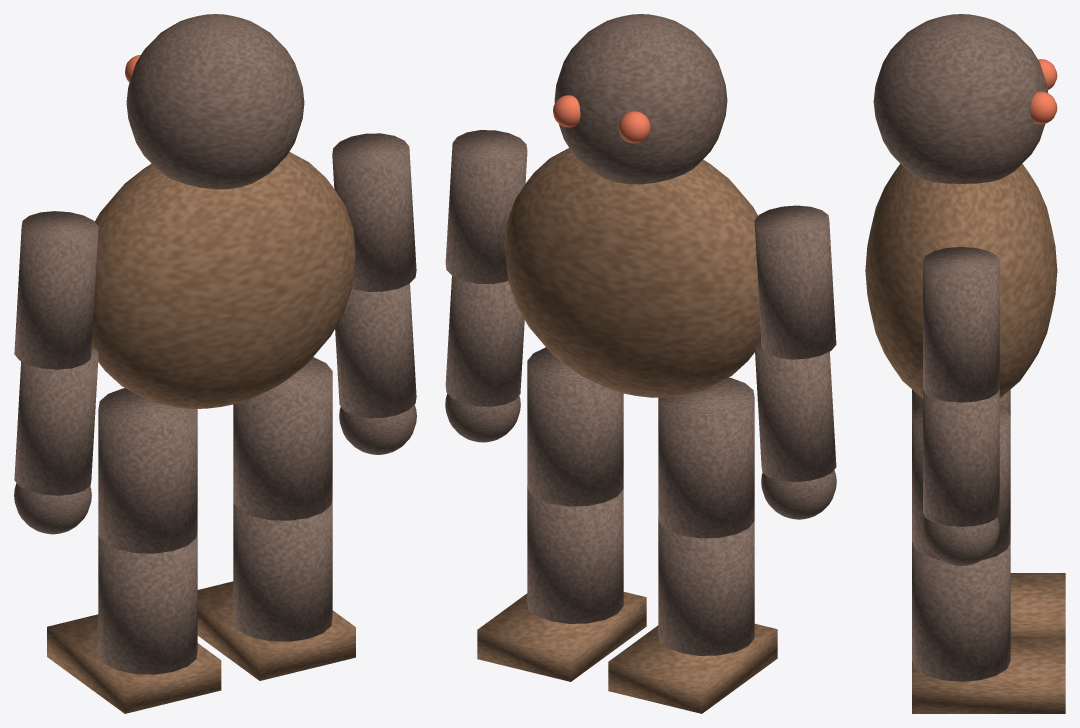
The model's file is fallen-angel.glb.
3 views of the same model, side by side, from view 1: azimuth 30°, elevation 25°; view 2: azimuth 150°, elevation 25°; view 3: azimuth 270°, elevation 25° (orthographic). The views are drawn at different scales.
Parts seen in each view (by area): view 1: Torso, Head, ThighL, ThighR, ShinR, ShinL, UpperArmL, UpperArmR, ForearmL, ForearmR, FootL, FootR (+2 smaller); view 2: Torso, Head, ThighL, ThighR, ShinR, ShinL, UpperArmL, UpperArmR, ForearmL, ForearmR, FootL, FootR (+4 smaller); view 3: Torso, Head, ShinR, UpperArmR, ForearmR, FootR, FootL, ThighR, HandR, Eye.001, ThighL, Eye.
Part boxes in pixels (x1,y1,x2,y2): Torso: [92, 152, 355, 408]; Head: [126, 14, 304, 189]; ThighL: [98, 388, 197, 553]; ThighR: [233, 357, 332, 520]; ShinR: [233, 497, 332, 641]; ShinL: [98, 531, 197, 674]; UpperArmL: [14, 211, 98, 369]; UpperArmR: [332, 133, 416, 291]; ForearmL: [14, 347, 98, 495]; ForearmR: [335, 283, 416, 418]; FootL: [47, 614, 221, 713]; FootR: [197, 581, 355, 680]; Torso: [504, 148, 760, 397]; Head: [554, 14, 727, 184]; ThighL: [658, 377, 754, 538]; ThighR: [527, 347, 623, 506]; ShinR: [527, 485, 623, 623]; ShinL: [658, 517, 754, 655]; UpperArmL: [754, 205, 836, 359]; UpperArmR: [445, 130, 527, 283]; ForearmL: [754, 338, 836, 481]; ForearmR: [445, 276, 524, 406]; FootL: [608, 623, 777, 713]; FootR: [477, 592, 646, 681]; Torso: [865, 163, 1057, 397]; Head: [873, 14, 1047, 183]; ShinR: [912, 542, 1010, 681]; UpperArmR: [923, 247, 999, 402]; ForearmR: [923, 389, 999, 526]; FootR: [912, 637, 1065, 713]; FootL: [1010, 573, 1065, 637]; ThighR: [912, 405, 1010, 560]; HandR: [923, 517, 999, 566]; Eye.001: [1030, 91, 1057, 124]; ThighL: [912, 389, 1010, 416]; Eye: [1038, 59, 1057, 89].
Size of the model in its own units: 0.6367 by 1 by 0.2852.
3 materials, 2 textured.
